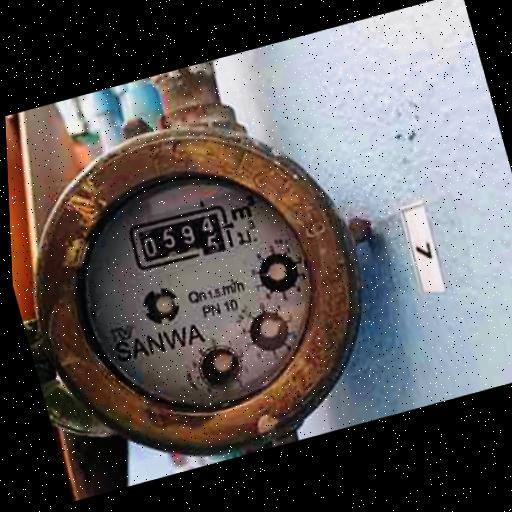0: (137, 227, 164, 262)
4: (194, 212, 227, 255)
5: (156, 222, 184, 258)
9: (175, 217, 203, 251)
border_water_meter_number: (125, 200, 237, 274)
